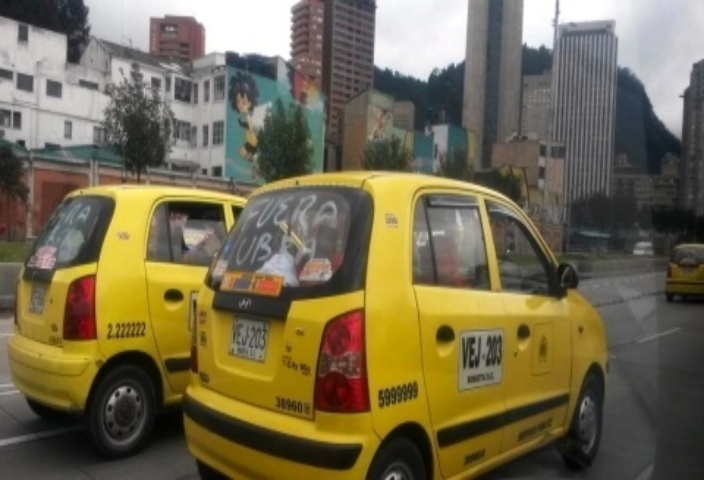taxi: (203, 167, 609, 480), (13, 169, 283, 466), (659, 237, 704, 290)
